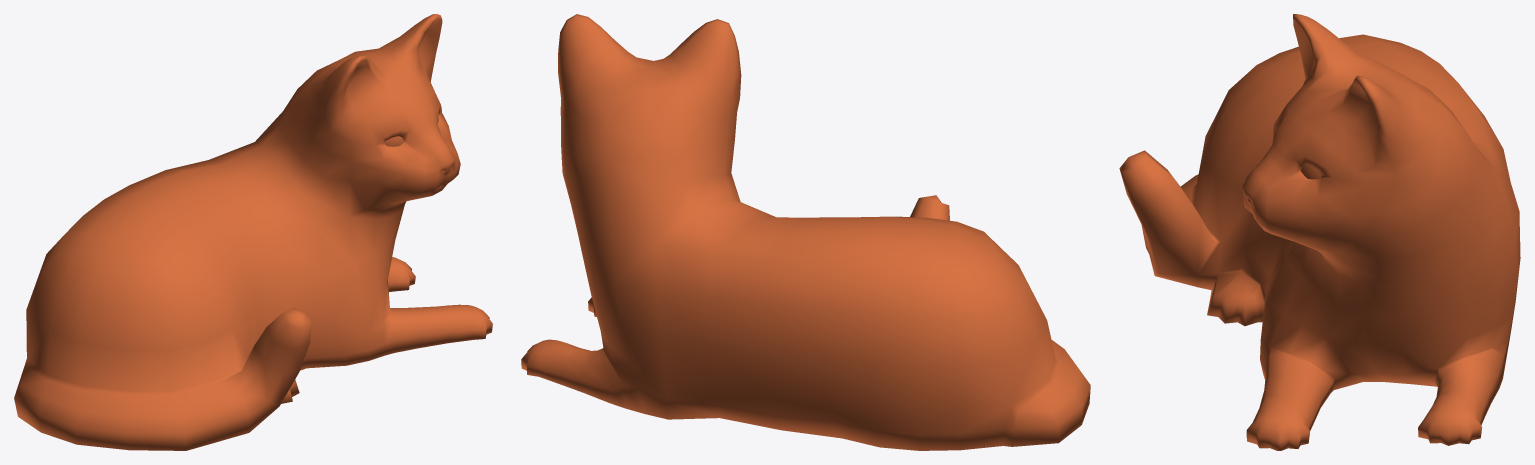
Rendered from Cat.fbx.
3 views of the same model, side by side, from view 1: azimuth 30°, elevation 25°; view 2: azimuth 150°, elevation 25°; view 3: azimuth 270°, elevation 25° (orthographic). The views are drawn at different scales.
Parts seen in each view (by area): view 1: Cat Figurine; view 2: Cat Figurine; view 3: Cat Figurine.
Boxes of the visible parts, x1,y1,x2,y2 form: Cat Figurine: (14, 14, 492, 450); Cat Figurine: (521, 14, 1090, 450); Cat Figurine: (1119, 14, 1520, 450).
Size of the model in its own units: 34.98 by 21.82 by 21.86.
